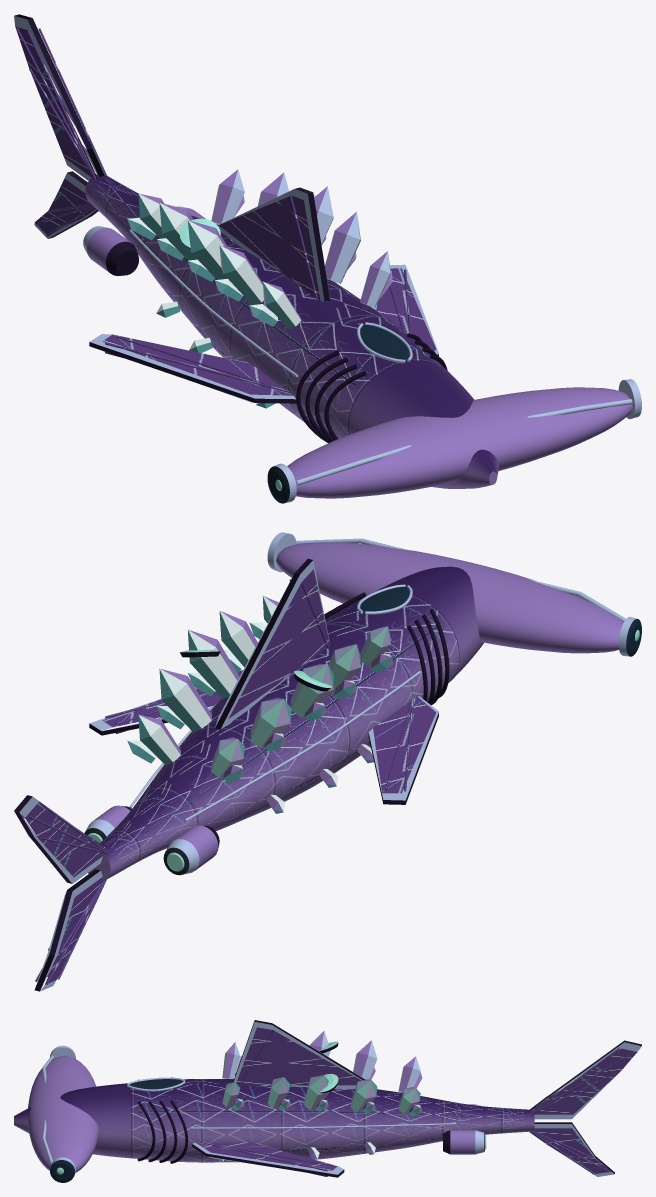
3 renders of one model, top to bottom at view 1: azimuth 30°, elevation 25°; view 2: azimuth 150°, elevation 25°; view 3: azimuth 270°, elevation 25°, orthographic. The views are drawn at different scales.
Parts seen in each view (by area): view 1: hammerhead_hull; view 2: hammerhead_hull; view 3: hammerhead_hull.
Boxes of the visible parts, x1,y1,x2,y2 form: hammerhead_hull: (14,14,641,503); hammerhead_hull: (14,532,641,991); hammerhead_hull: (14,1020,641,1182).
Size of the model in its own units: 34.14 by 21.29 by 78.
1 material, 1 textured.
